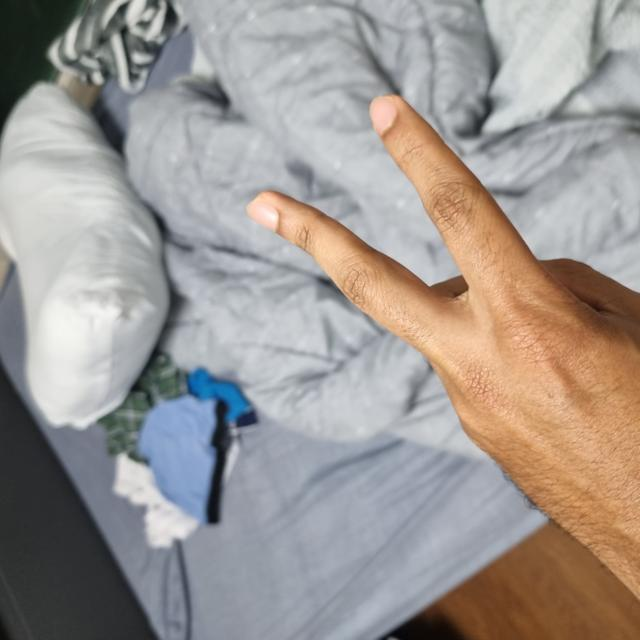Scissors: (21, 250, 545, 638)
